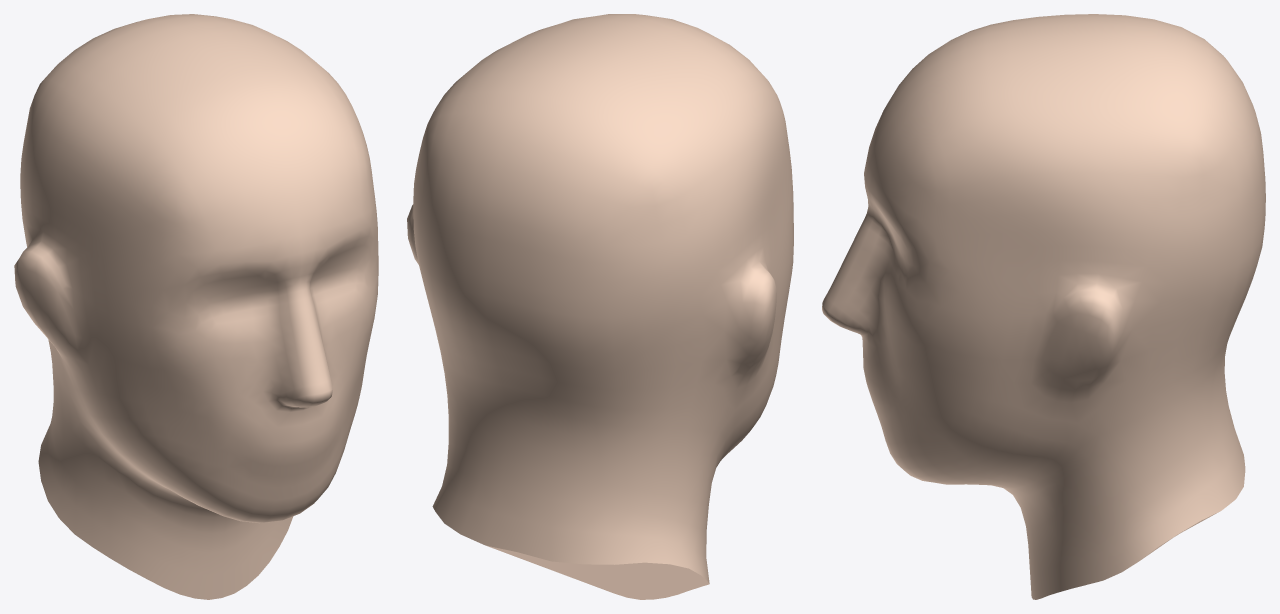
The model's file is head.gltf.
3 renders of one model, left to right at view 1: azimuth 30°, elevation 25°; view 2: azimuth 150°, elevation 25°; view 3: azimuth 270°, elevation 25°, orthographic. The views are drawn at different scales.
Parts seen in each view (by area): view 1: head_BasicHead_basicHeadgroup; view 2: head_BasicHead_basicHeadgroup; view 3: head_BasicHead_basicHeadgroup.
Part boxes in pixels (x1=…): head_BasicHead_basicHeadgroup: x1=14, y1=14, x2=378, y2=599; head_BasicHead_basicHeadgroup: x1=407, y1=14, x2=793, y2=599; head_BasicHead_basicHeadgroup: x1=822, y1=14, x2=1265, y2=599.
Bounding box in the file's own units: 0.9104 × 1.38 × 0.9955.
